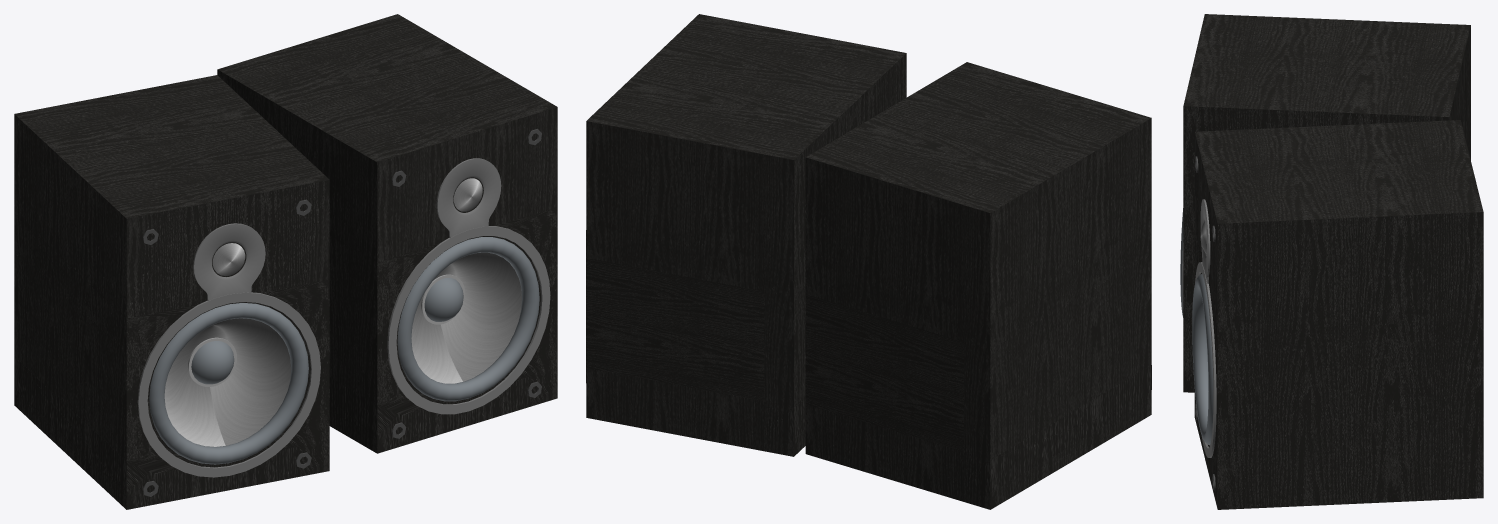
The model's file is bocina.fbx.
The picture shows the model from 3 angles, left to right: view 1: azimuth 30°, elevation 25°; view 2: azimuth 150°, elevation 25°; view 3: azimuth 270°, elevation 25°; orthographic projection. The views are drawn at different scales.
Parts seen in each view (by area): view 1: Tube_9; view 2: Tube_9; view 3: Tube_9.
Part boxes in pixels (bbox=[...]): Tube_9: bbox=[14, 14, 557, 509]; Tube_9: bbox=[586, 14, 1151, 509]; Tube_9: bbox=[1180, 14, 1483, 509].
Size of the model in its own units: 572 by 364 by 349.
